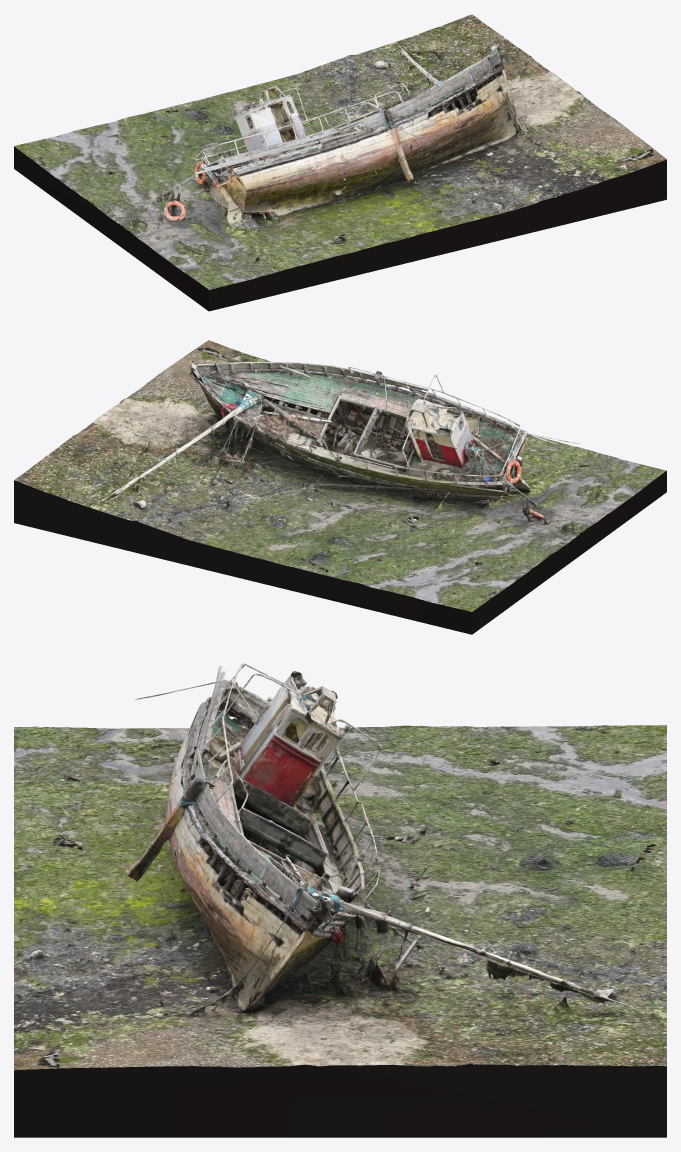
Rendered from wreck.glb.
The picture shows the model from 3 angles, top to bottom: view 1: azimuth 30°, elevation 25°; view 2: azimuth 150°, elevation 25°; view 3: azimuth 270°, elevation 25°; orthographic projection. The views are drawn at different scales.
Parts seen in each view (by area): view 1: Object_2; view 2: Object_2; view 3: Object_2.
Part boxes in pixels (left/top/right/bottom): Object_2: left=14, top=14, right=666, bottom=311; Object_2: left=14, top=340, right=666, bottom=634; Object_2: left=14, top=663, right=666, bottom=1137.
Size of the model in its own units: 16.63 by 4.56 by 12.25.
Materials: 1 (1 with a texture image).
